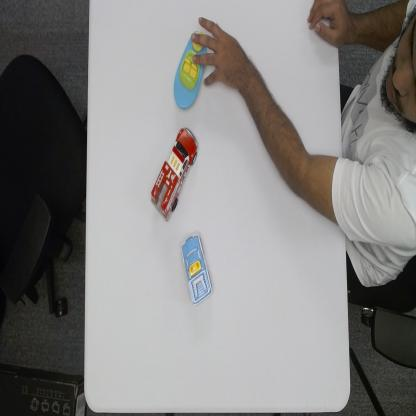Arm: (248, 61, 341, 225)
Boat: (172, 29, 208, 110)
Car: (180, 232, 214, 307)
Firetruck: (150, 126, 199, 223)
Hand: (190, 13, 247, 90), (308, 0, 338, 43)
